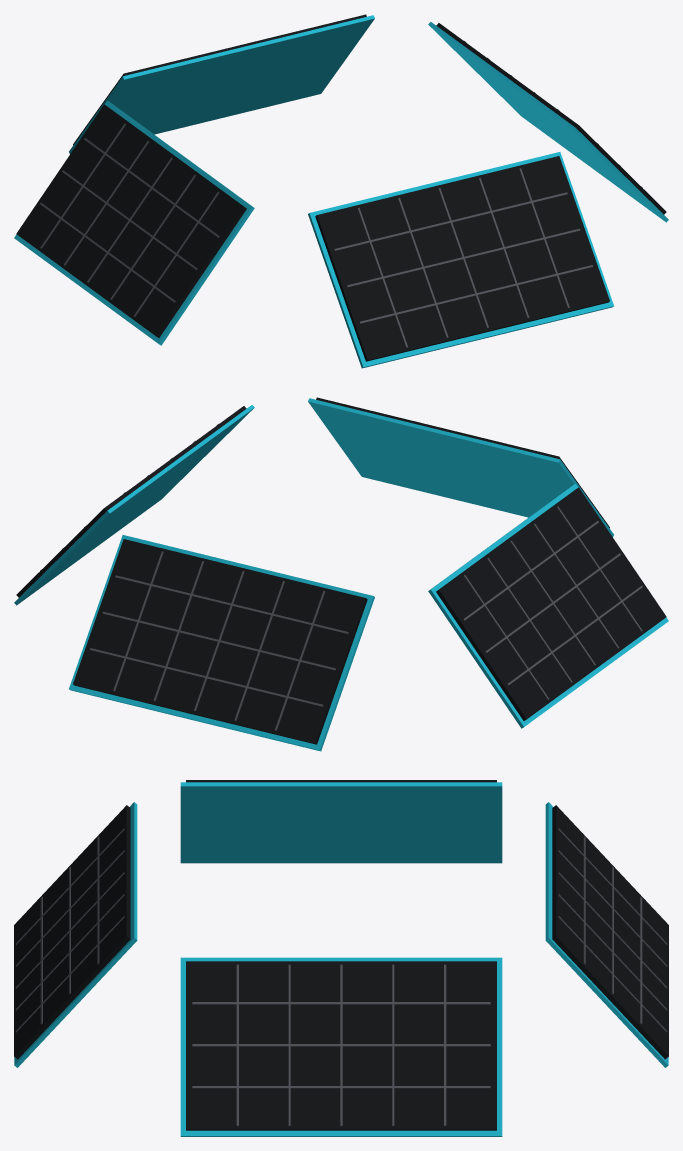
The model's file is n2_array.obj.
3 renders of one model, top to bottom at view 1: azimuth 30°, elevation 25°; view 2: azimuth 150°, elevation 25°; view 3: azimuth 270°, elevation 25°, orthographic. The views are drawn at different scales.
Visible parts, largest first — view 1: n2_array; view 2: n2_array; view 3: n2_array.
Part boxes in pixels (x1,y1,x2,y2): n2_array: (14,14,668,368); n2_array: (14,397,668,751); n2_array: (14,780,668,1136).
Size of the model in its own units: 1.81 by 0.3972 by 1.81.
